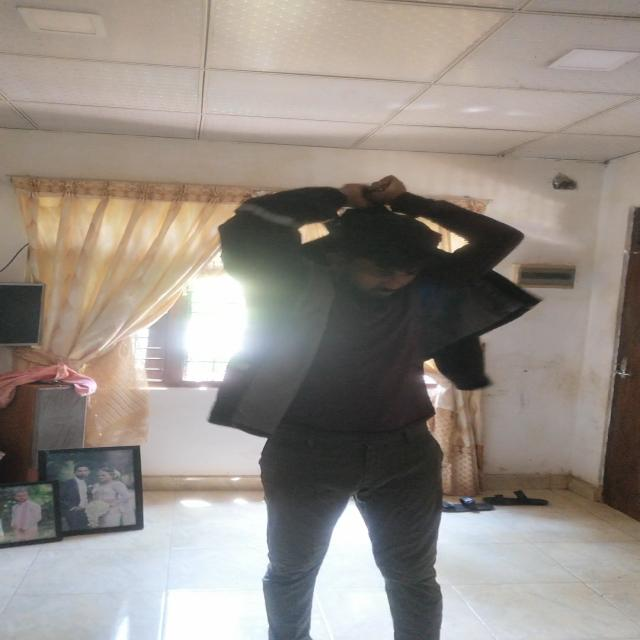Jacket_Wearer: (206, 182, 530, 455)
Person: (208, 174, 524, 640)
